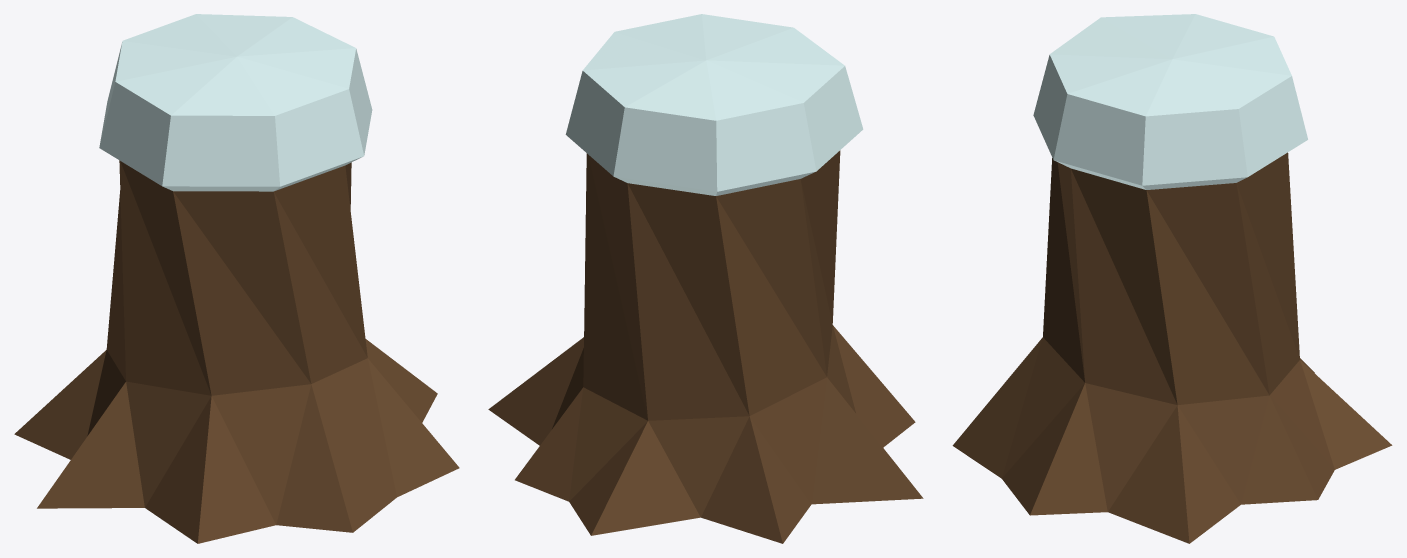
The model's file is stump-snow.glb.
3 views of the same model, side by side, from view 1: azimuth 30°, elevation 25°; view 2: azimuth 150°, elevation 25°; view 3: azimuth 270°, elevation 25° (orthographic). The views are drawn at different scales.
Parts seen in each view (by area): view 1: stump_winter; view 2: stump_winter; view 3: stump_winter.
Boxes of the visible parts, x1=… form: stump_winter: x1=14, y1=14, x2=459, y2=543; stump_winter: x1=488, y1=14, x2=923, y2=543; stump_winter: x1=952, y1=14, x2=1392, y2=543.
Size of the model in its own units: 1.06 by 0.991 by 0.9914.
1 material, 1 textured.
